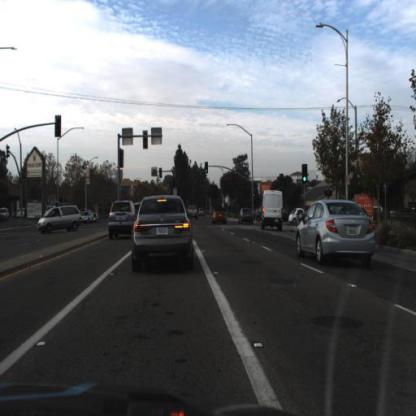car: (295, 196, 372, 268), (131, 199, 194, 269), (109, 200, 139, 240), (106, 202, 140, 237), (38, 208, 81, 231), (209, 204, 232, 226), (188, 199, 200, 222), (131, 200, 141, 221), (240, 210, 254, 224), (189, 206, 199, 222), (83, 211, 93, 224), (112, 210, 120, 220)
trafficLight: (55, 115, 63, 138), (142, 131, 150, 152), (118, 148, 125, 169)
trafficLight-Green: (204, 161, 212, 177), (302, 165, 308, 185), (171, 177, 178, 191), (159, 168, 164, 178)
truck: (263, 191, 286, 234), (260, 190, 284, 231)
